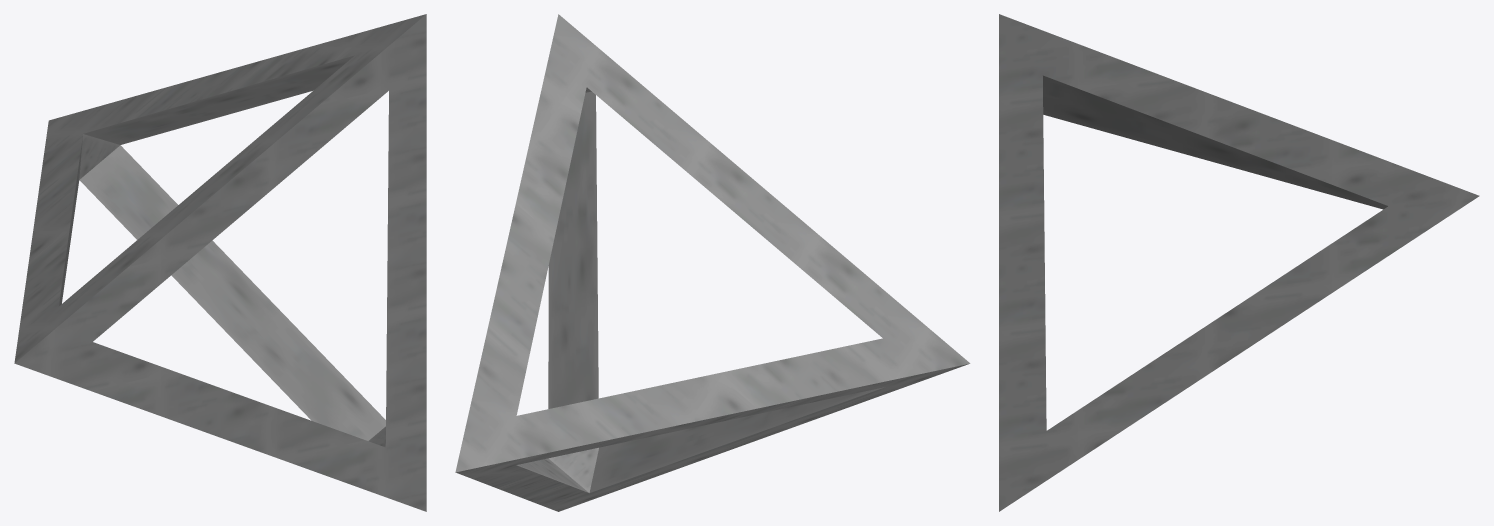
Rendered from bulletenemy_00_00.obj.
3 views of the same model, side by side, from view 1: azimuth 30°, elevation 25°; view 2: azimuth 150°, elevation 25°; view 3: azimuth 270°, elevation 25° (orthographic).
Visible parts, largest first — view 1: group2 group1 pPlatonic1, group2 group1 pPlane1, group2 group1 pPlane2, group2 group1 pPlane7, group2 group1 pasted__pPlane1; view 2: group2 group1 pPlatonic1, pPlane4 group2 group1, group2 group1 pasted__pPlane2, group2 group1 pPlane8, group2 group1 pPlane1; view 3: group2 group1 pPlatonic1, group2 group1 pasted__pPlane1.
Boxes of the visible parts, x1=… form: group2 group1 pPlatonic1: x1=14, y1=14, x2=426, y2=511; group2 group1 pPlane1: x1=79, y1=145, x2=385, y2=440; group2 group1 pPlane2: x1=83, y1=55, x2=354, y2=144; group2 group1 pPlane7: x1=79, y1=134, x2=119, y2=179; group2 group1 pasted__pPlane1: x1=58, y1=136, x2=82, y2=306; group2 group1 pPlatonic1: x1=455, y1=14, x2=970, y2=511; pPlane4 group2 group1: x1=548, y1=91, x2=598, y2=408; group2 group1 pasted__pPlane2: x1=589, y1=387, x2=885, y2=492; group2 group1 pPlane8: x1=549, y1=447, x2=598, y2=492; group2 group1 pPlane1: x1=516, y1=458, x2=588, y2=492; group2 group1 pPlatonic1: x1=999, y1=14, x2=1479, y2=511; group2 group1 pasted__pPlane1: x1=1043, y1=75, x2=1387, y2=209.
Bounding box in the file's own units: 1.3 × 1.5 × 1.31.
Materials: 1 (1 with a texture image).
